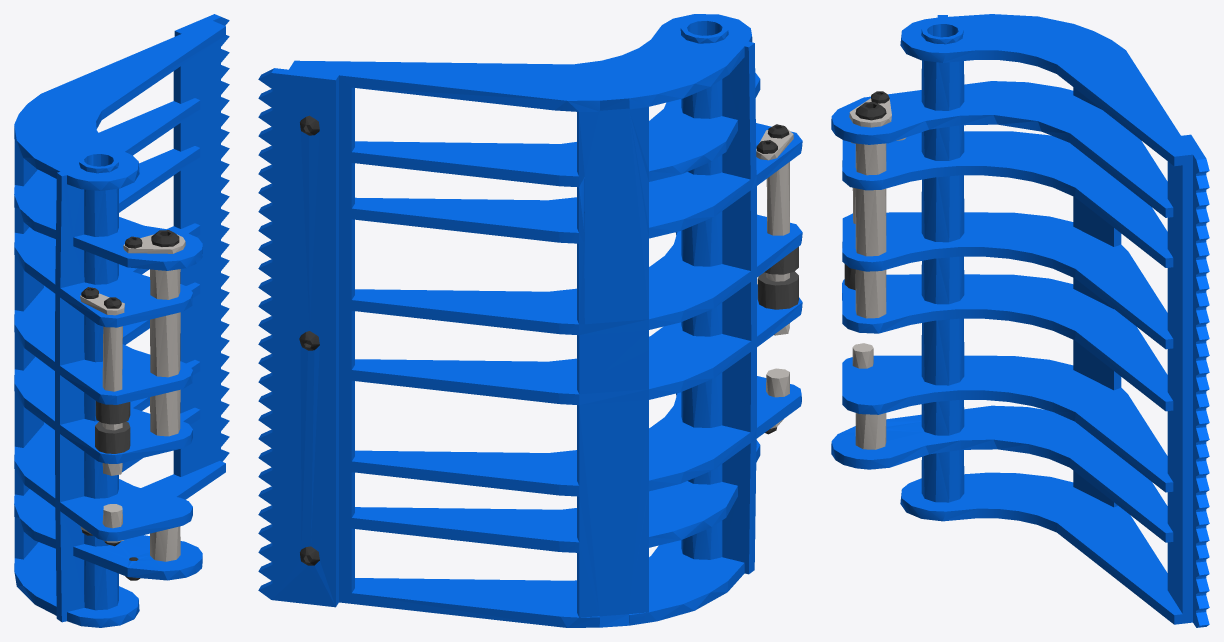
Rendered from gripper_claw_2_visuals_Mesh.obj.
3 renders of one model, left to right at view 1: azimuth 30°, elevation 25°; view 2: azimuth 150°, elevation 25°; view 3: azimuth 270°, elevation 25°, orthographic. The views are drawn at different scales.
Visible parts, largest first — view 1: gripper_1; view 2: gripper_1; view 3: gripper_1.
Boxes of the visible parts, <box> form: gripper_1: <box>14,14,229,627</box>; gripper_1: <box>258,14,802,627</box>; gripper_1: <box>831,14,1209,627</box>.
Size of the model in its own units: 0.0678 by 0.1 by 0.0718.
